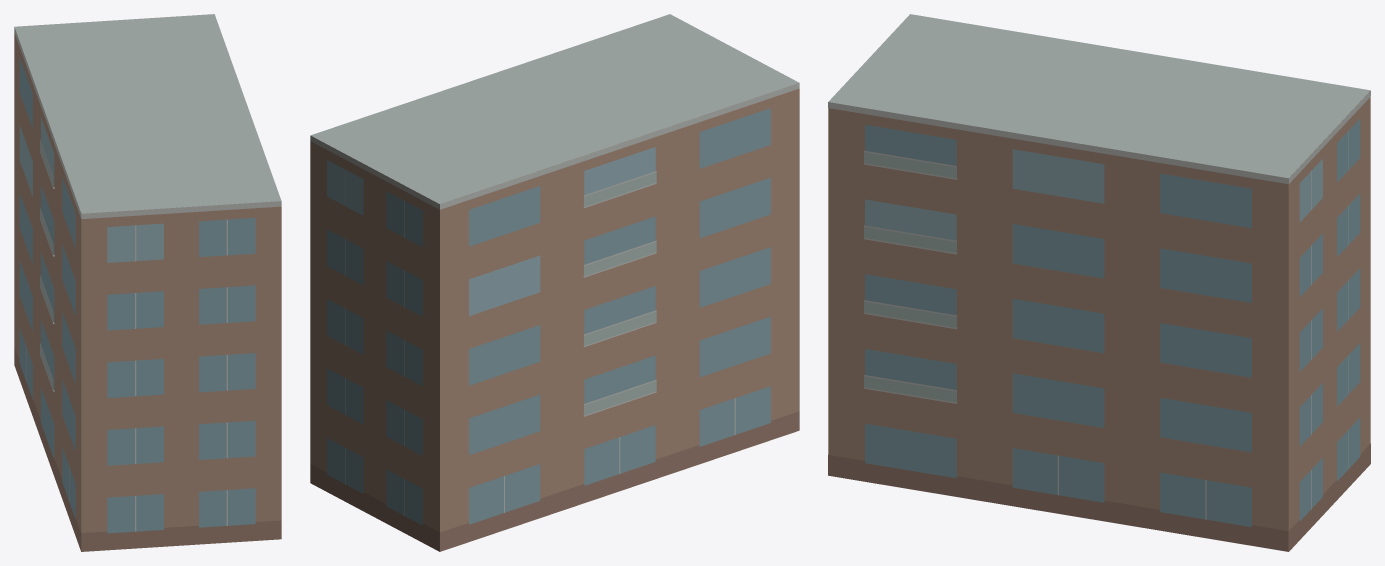
Rendered from survey-upis-32636557.glb.
The picture shows the model from 3 angles, left to right: view 1: azimuth 30°, elevation 25°; view 2: azimuth 150°, elevation 25°; view 3: azimuth 270°, elevation 25°; orthographic projection. The views are drawn at different scales.
Visible parts, largest first — view 1: survey-upis-32636557.tmp; view 2: survey-upis-32636557.tmp; view 3: survey-upis-32636557.tmp.
Boxes of the visible parts, x1,y1,x2,y2 form: survey-upis-32636557.tmp: (14, 14, 281, 551); survey-upis-32636557.tmp: (310, 14, 799, 551); survey-upis-32636557.tmp: (828, 14, 1370, 551).
Size of the model in its own units: 14.34 by 15.2 by 20.02.
